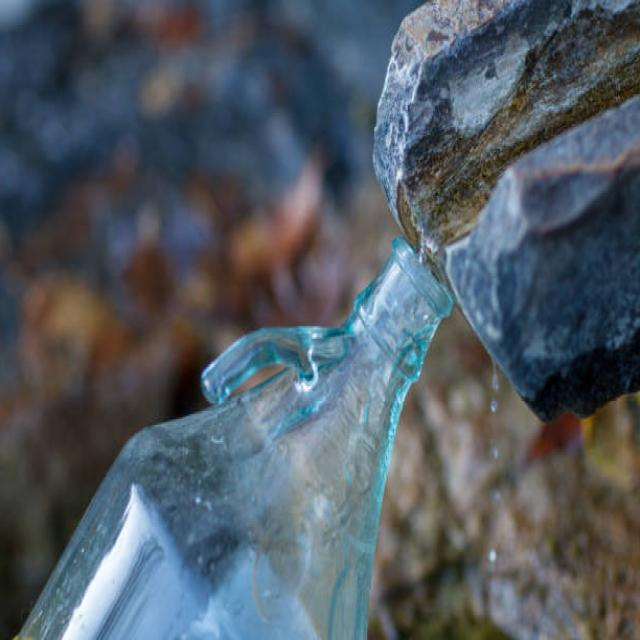blue_bottle: (6, 218, 462, 635)
